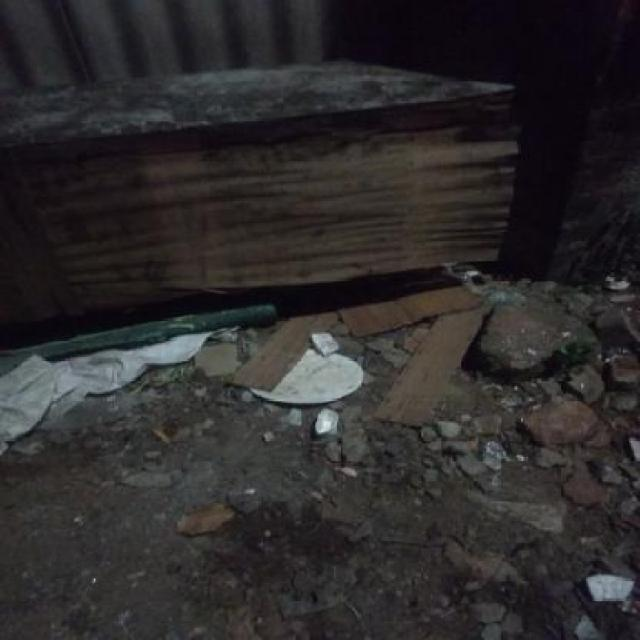garbage: (0, 326, 549, 452), (467, 272, 640, 639)
